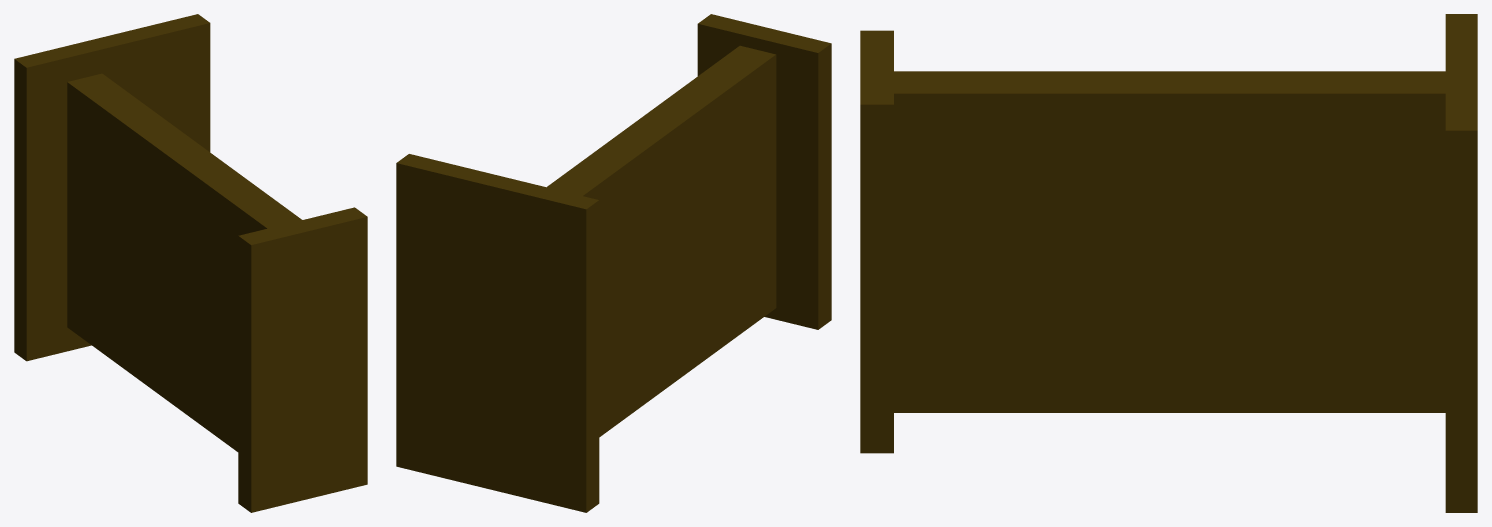
Rendered from BedFrame.fbx.
3 renders of one model, left to right at view 1: azimuth 30°, elevation 25°; view 2: azimuth 150°, elevation 25°; view 3: azimuth 270°, elevation 25°, orthographic. The views are drawn at different scales.
Parts seen in each view (by area): view 1: BedFrame; view 2: BedFrame; view 3: BedFrame.
Part boxes in pixels (box(x1,y1,x2,y2)): BedFrame: box(14, 14, 367, 512); BedFrame: box(396, 14, 831, 512); BedFrame: box(860, 14, 1477, 512).
Size of the model in its own units: 3.14 by 4.8 by 7.02.
